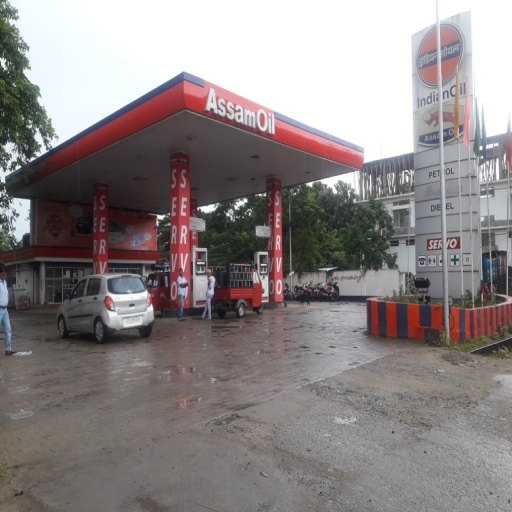roof: (8, 74, 362, 210)
